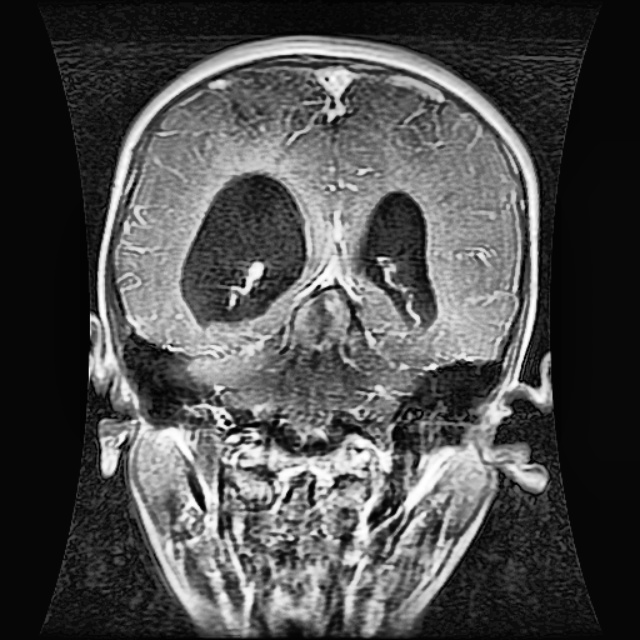Meningioma: (175, 167, 313, 333)
